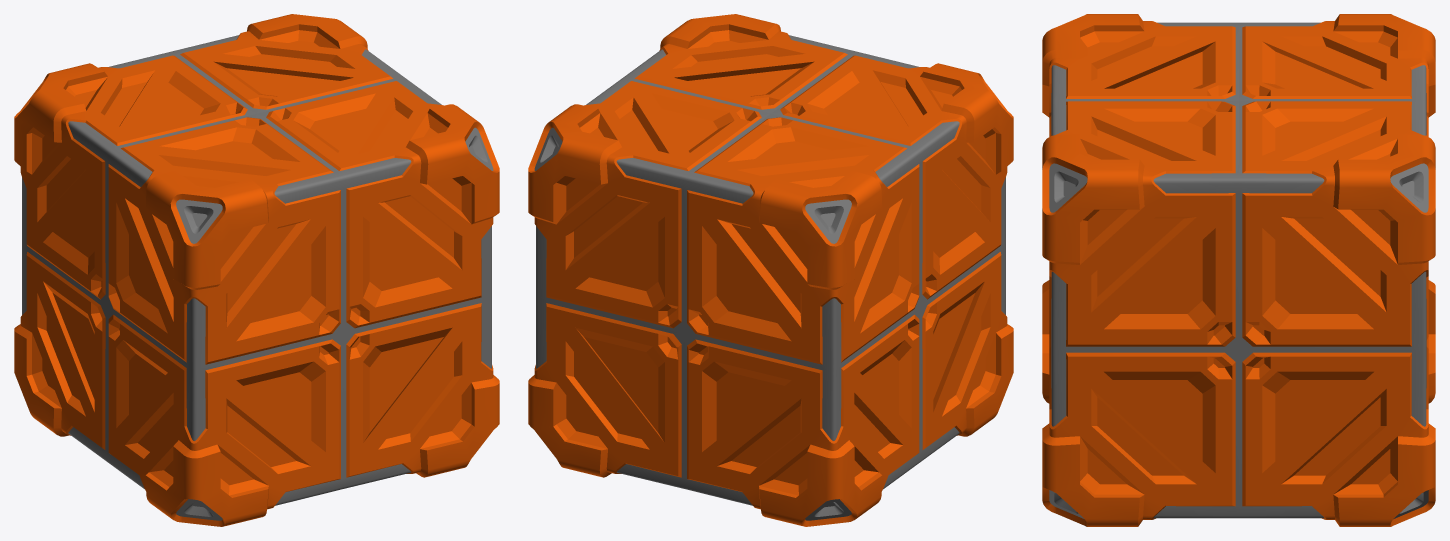
The model's file is Crate.fbx.
The picture shows the model from 3 angles, left to right: view 1: azimuth 30°, elevation 25°; view 2: azimuth 150°, elevation 25°; view 3: azimuth 270°, elevation 25°; orthographic projection. The views are drawn at different scales.
Visible parts, largest first — view 1: Backup.003; view 2: Backup.003; view 3: Backup.003.
Part boxes in pixels (x1=…): Backup.003: x1=14, y1=14, x2=499, y2=526; Backup.003: x1=528, y1=14, x2=1013, y2=526; Backup.003: x1=1042, y1=14, x2=1435, y2=526.
Bounding box in the file's own units: 207 × 207 × 207.
